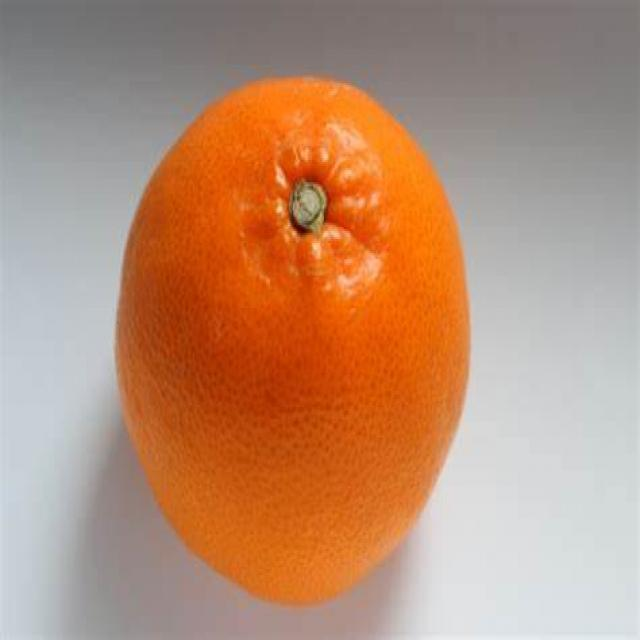Orange: (110, 72, 476, 609)
